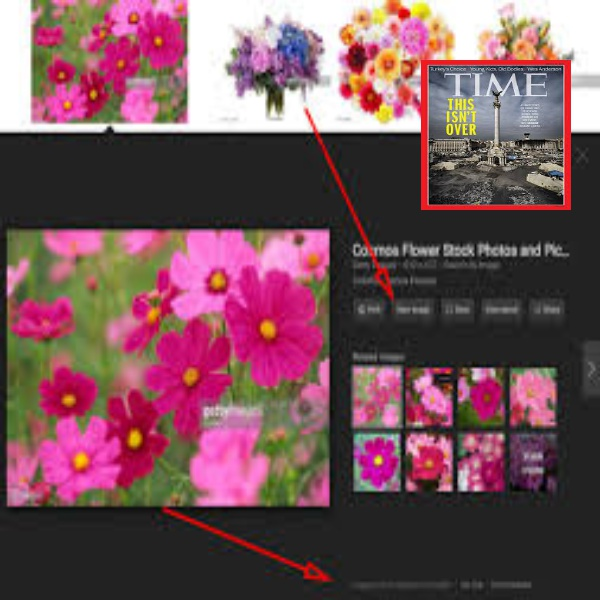time_cover: (413, 48, 578, 222)
